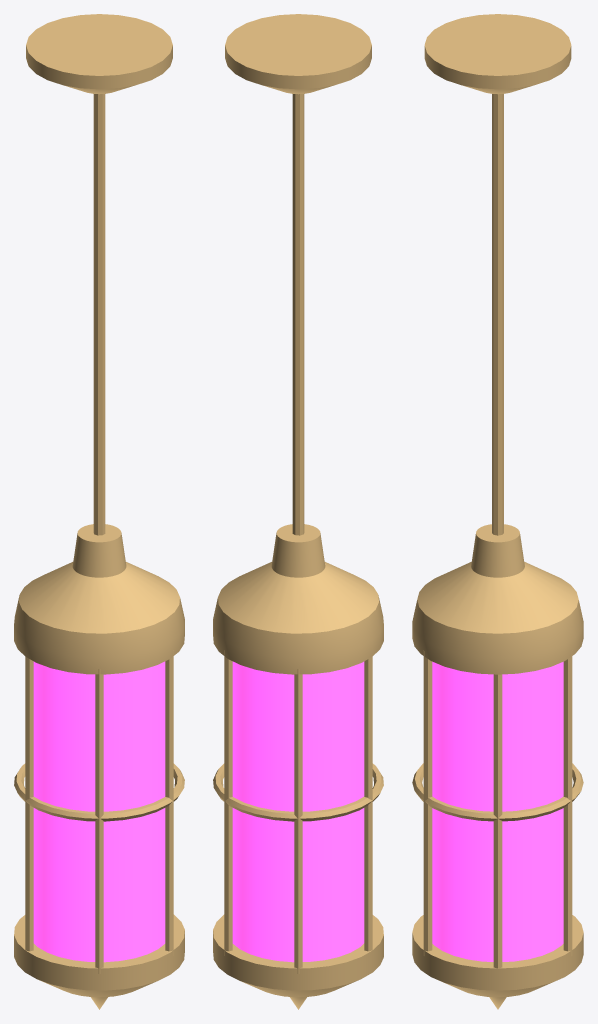
The model's file is KIT_Pendente.glb.
3 renders of one model, left to right at view 1: azimuth 30°, elevation 25°; view 2: azimuth 150°, elevation 25°; view 3: azimuth 270°, elevation 25°, orthographic.
Visible parts, largest first — view 1: KIT_Pendente; view 2: KIT_Pendente; view 3: KIT_Pendente.
Boxes of the visible parts, x1,y1,x2,y2 form: KIT_Pendente: (14, 14, 184, 1009); KIT_Pendente: (213, 14, 383, 1009); KIT_Pendente: (412, 14, 583, 1009).
Size of the model in its own units: 0.14 by 0.87 by 0.14.
